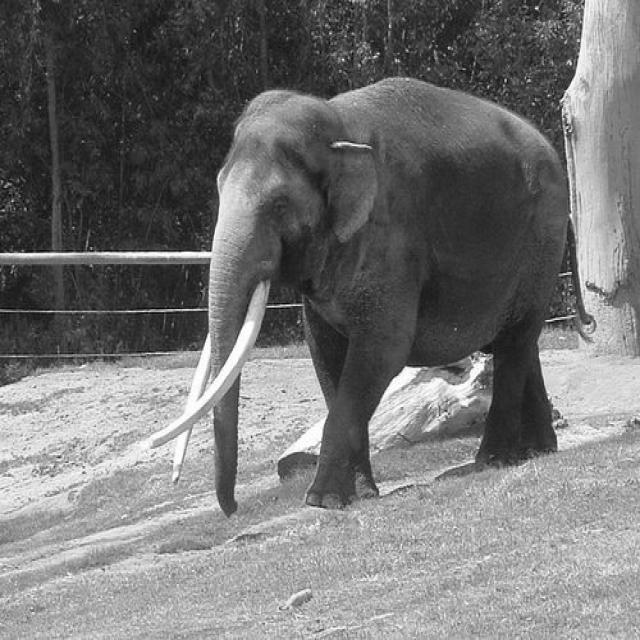Elephant: (148, 74, 596, 516)
